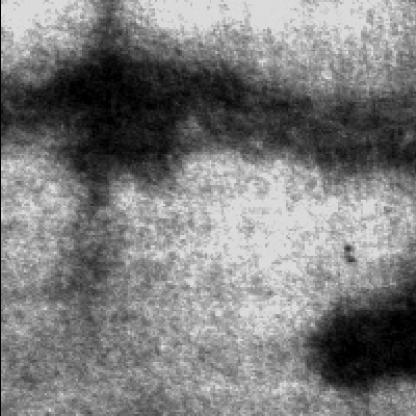patches: (0, 46, 414, 192), (306, 300, 414, 398)
